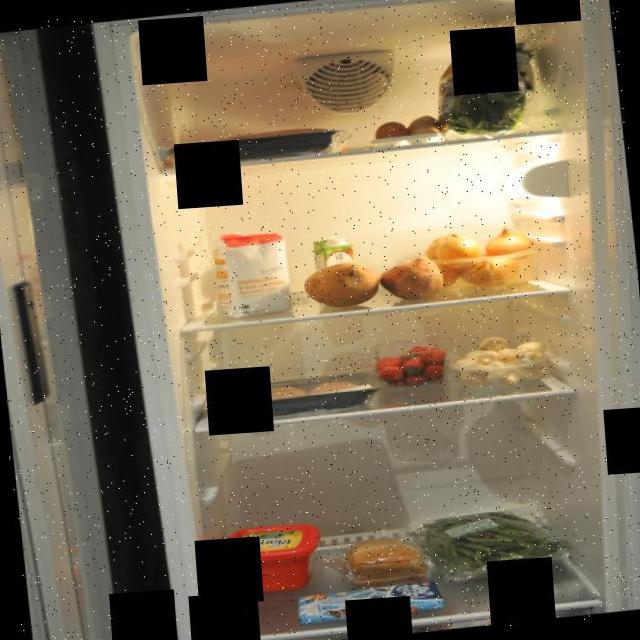Carne pollo: (212, 368, 382, 422)
Cebolla: (416, 221, 538, 296)
Champiñones: (448, 327, 552, 392)
Huevos: (369, 112, 444, 150)
Mantequilla: (215, 518, 326, 600)
